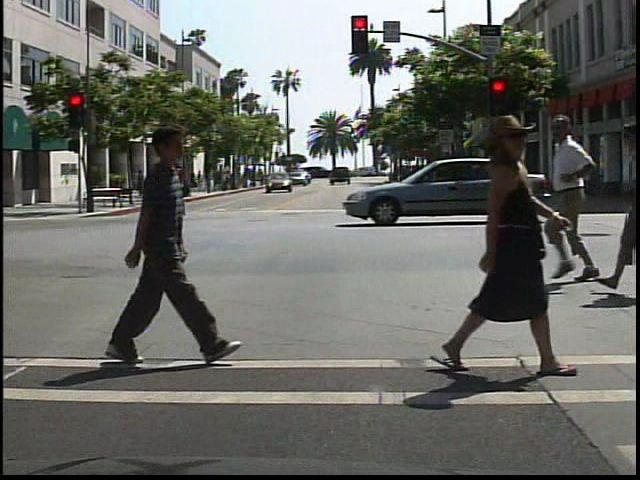person: (444, 110, 569, 375), (104, 121, 223, 365), (544, 110, 617, 294), (173, 157, 190, 219), (130, 163, 150, 210)
